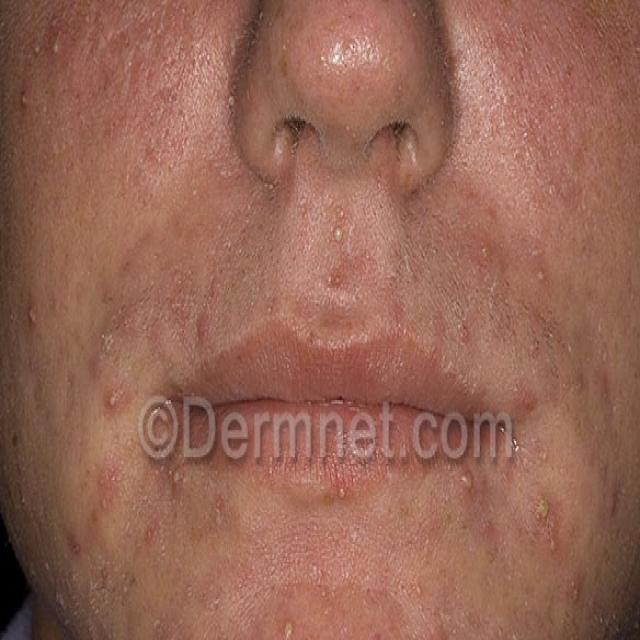Acne: (274, 202, 428, 325), (27, 182, 87, 321), (118, 80, 181, 209), (456, 228, 569, 292), (35, 461, 86, 599), (87, 332, 131, 439), (159, 451, 200, 527), (35, 14, 75, 82), (529, 491, 560, 577), (431, 606, 487, 640), (0, 393, 38, 443), (459, 447, 483, 510), (6, 78, 37, 125), (626, 269, 640, 359), (273, 597, 302, 640)
